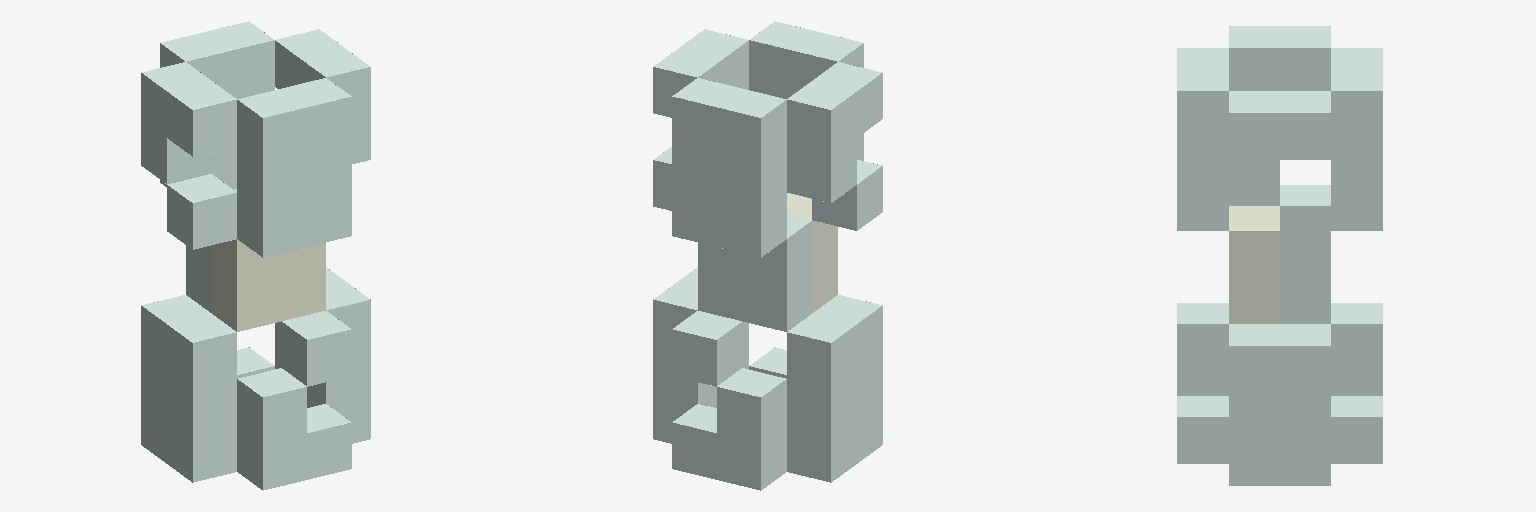
3 renders of one model, left to right at view 1: azimuth 30°, elevation 25°; view 2: azimuth 150°, elevation 25°; view 3: azimuth 270°, elevation 25°, orthographic.
Parts seen in each view (by area): view 1: ChronomancerBasicAbility-transparent; view 2: ChronomancerBasicAbility-transparent; view 3: ChronomancerBasicAbility-transparent.
Part boxes in pixels (x1,y1,x2,y2): ChronomancerBasicAbility-transparent: (141, 21, 370, 490); ChronomancerBasicAbility-transparent: (653, 21, 882, 490); ChronomancerBasicAbility-transparent: (1177, 26, 1382, 485).
Bounding box in the file's own units: 4 × 8 × 4.
Materials: 1 (1 with a texture image).